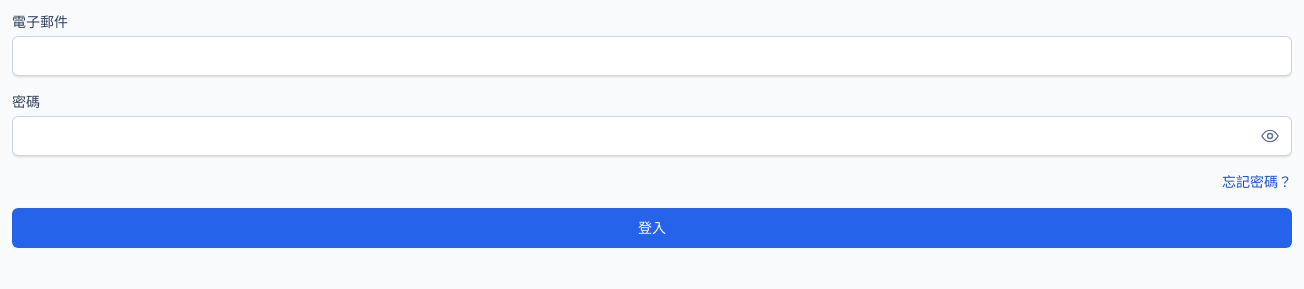
Test: LoginForm validation › rejects an invalid email format
This screenshot has width=1304, height=289.
Type "not-an-email" into the field labelled "電子郵件". click: (652, 56)
box: [12,36,1292,76]
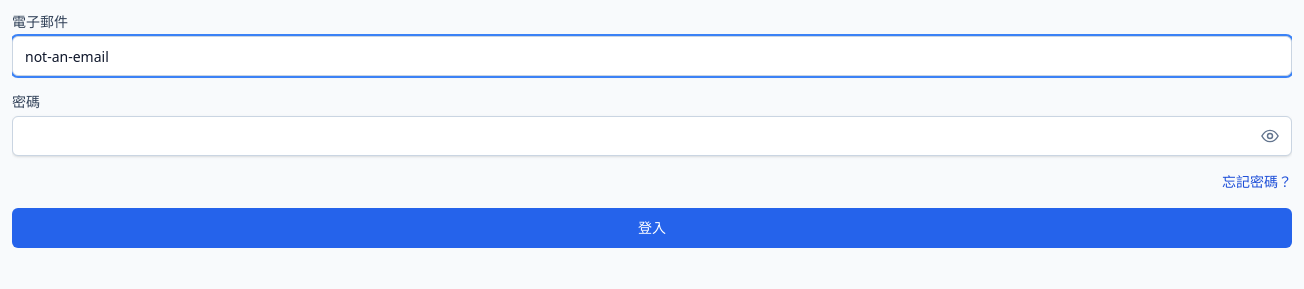
Type "secret123" into the password field labelled "密碼". click: (652, 136)
box: [12,116,1292,156]
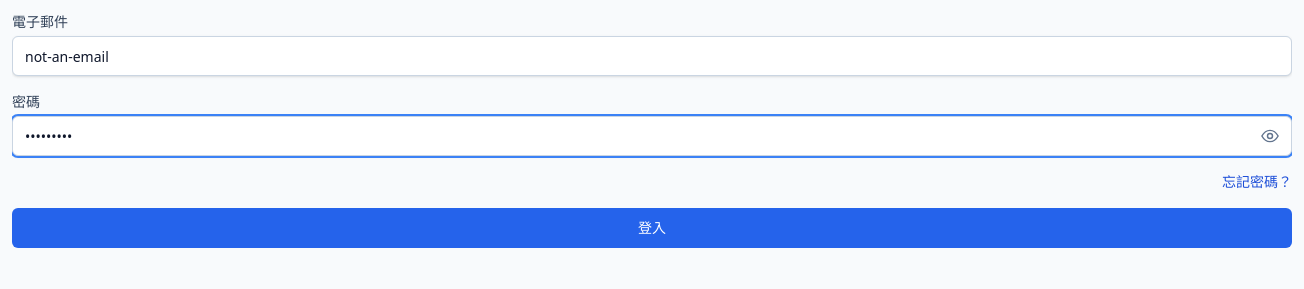
Click the button "登入". click: (652, 228)
box: [12,208,1292,248]
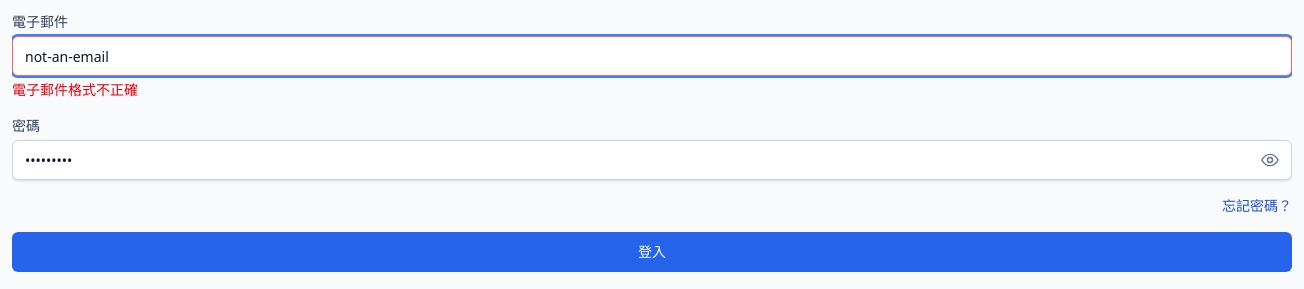
Check: the text "電子郵件格式不正確" is shown, box [12,80,138,99]
